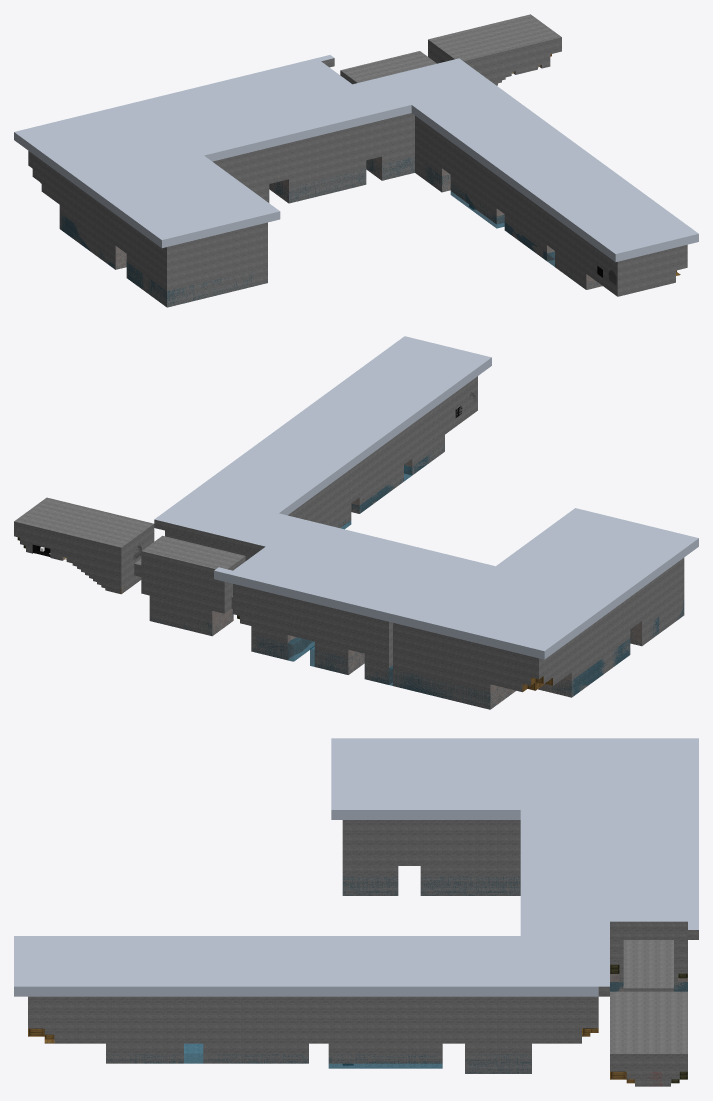
File: bhop_blocks.glb
3 views of the same model, one above another, from view 1: azimuth 30°, elevation 25°; view 2: azimuth 150°, elevation 25°; view 3: azimuth 270°, elevation 25° (orthographic). The views are drawn at different scales.
Parts seen in each view (by area): view 1: bhop_blocks_sky, bhop_blocks_static, bhop_blocks_translucent; view 2: bhop_blocks_sky, bhop_blocks_static, bhop_blocks_translucent; view 3: bhop_blocks_sky, bhop_blocks_static, bhop_blocks_translucent.
Part boxes in pixels (box(x1,y1,x2,y2)): bhop_blocks_sky: box(14, 55, 698, 262); bhop_blocks_static: box(28, 14, 687, 307); bhop_blocks_translucent: box(60, 60, 616, 306); bhop_blocks_sky: box(154, 336, 698, 659); bhop_blocks_static: box(14, 376, 684, 709); bhop_blocks_translucent: box(134, 392, 684, 708); bhop_blocks_sky: box(14, 738, 698, 996); bhop_blocks_static: box(28, 820, 698, 1086); bhop_blocks_translucent: box(106, 876, 687, 1085).
Bounding box in the file's own units: 107 × 14.63 × 99.97.
Materials: 30 (29 with a texture image).
